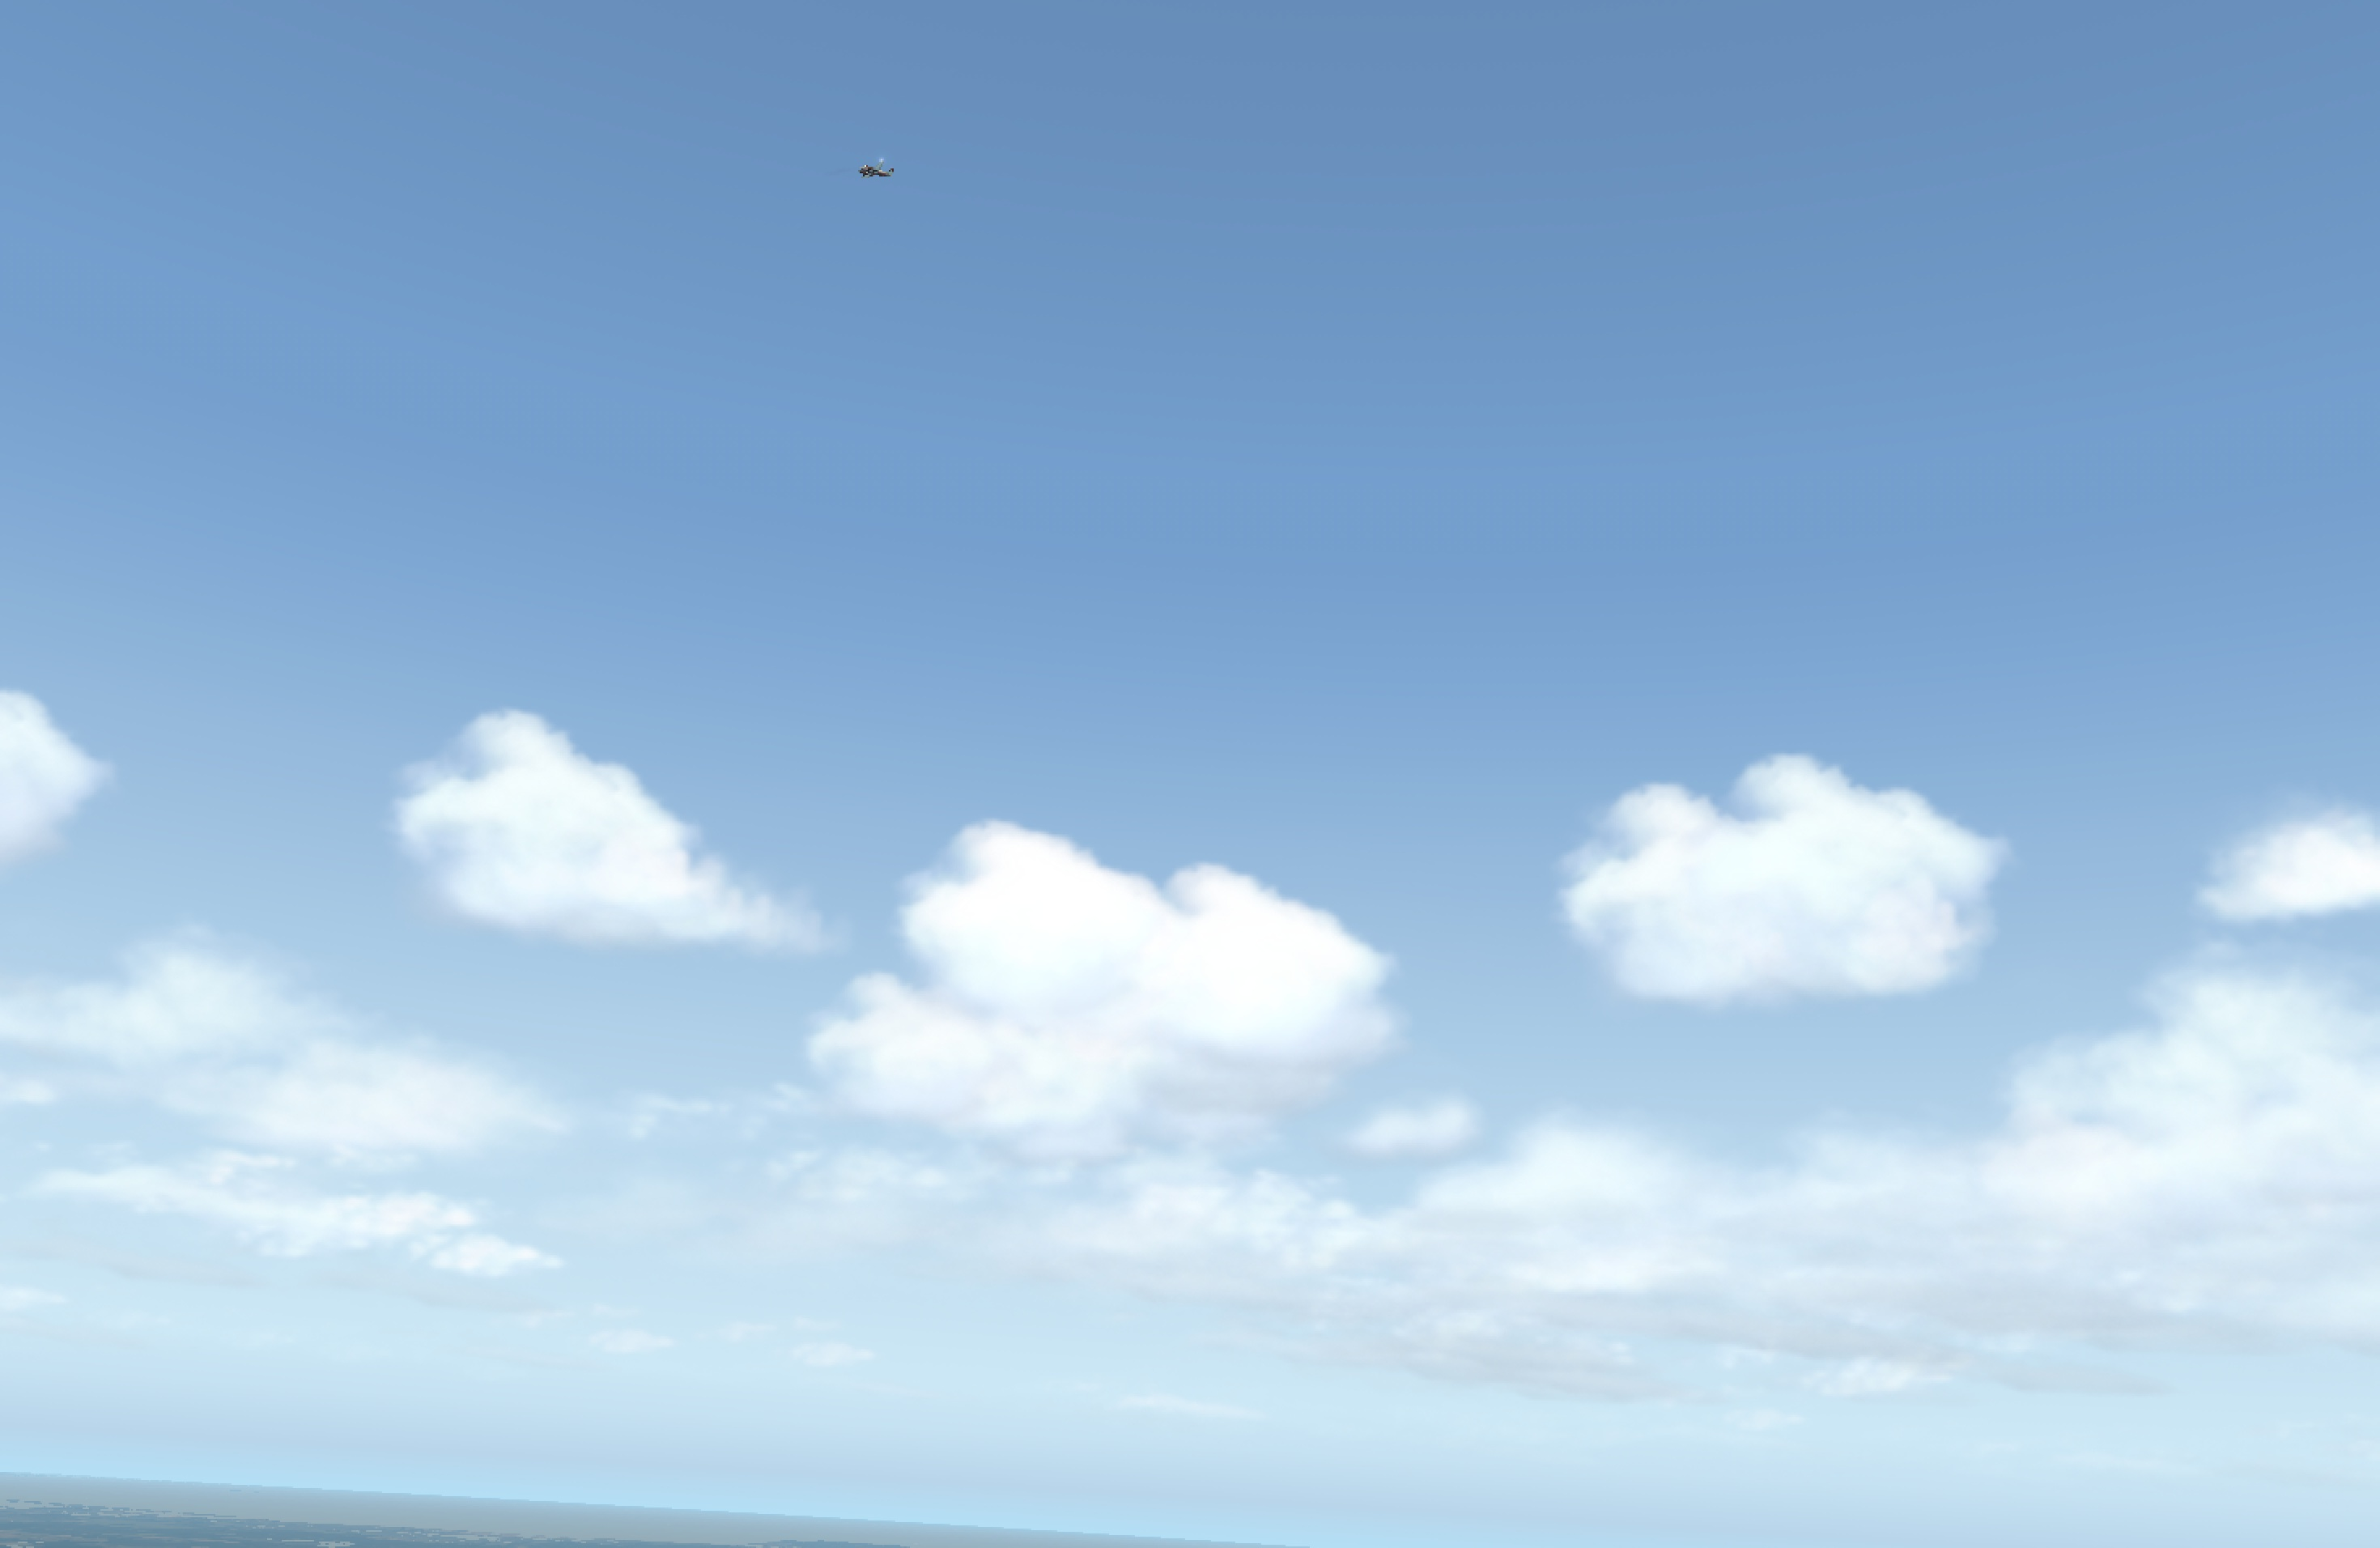aircraft: (845, 163, 895, 182)
